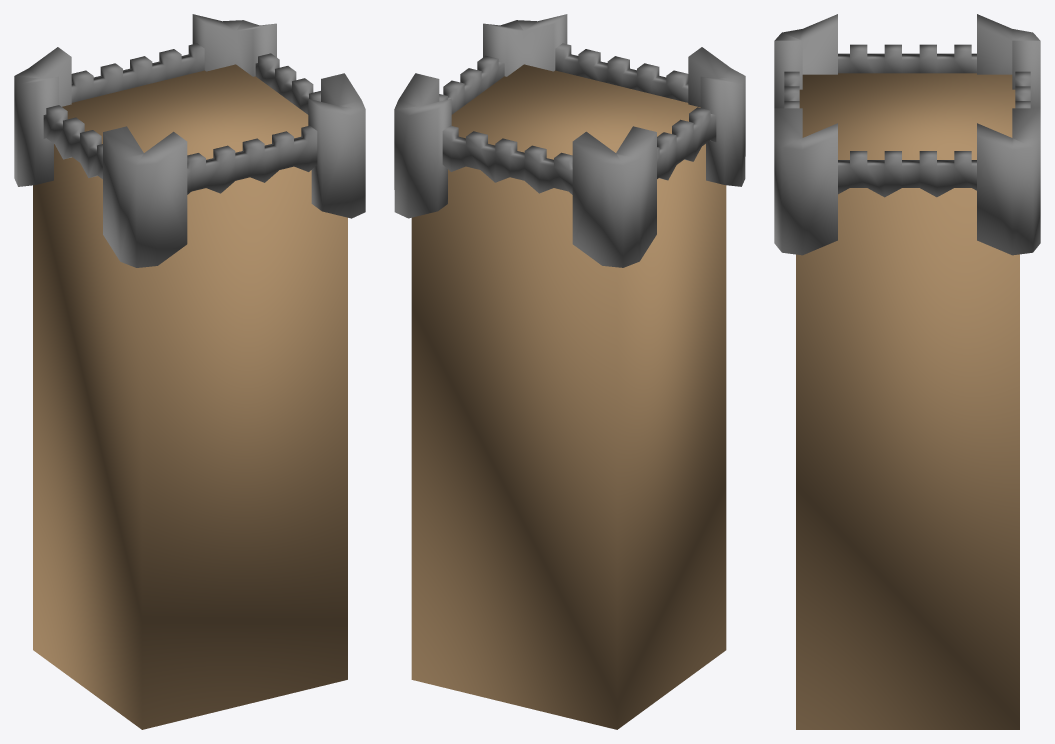
File: torre1.fbx
The picture shows the model from 3 angles, left to right: view 1: azimuth 30°, elevation 25°; view 2: azimuth 150°, elevation 25°; view 3: azimuth 270°, elevation 25°; orthographic projection. The views are drawn at different scales.
Parts seen in each view (by area): view 1: canhao.001; view 2: canhao.001; view 3: canhao.001.
Part boxes in pixels (left/top/right/bottom): canhao.001: left=14, top=14, right=365, bottom=729; canhao.001: left=394, top=14, right=745, bottom=729; canhao.001: left=774, top=14, right=1040, bottom=729.
Size of the model in its own units: 474 by 1102 by 440.
